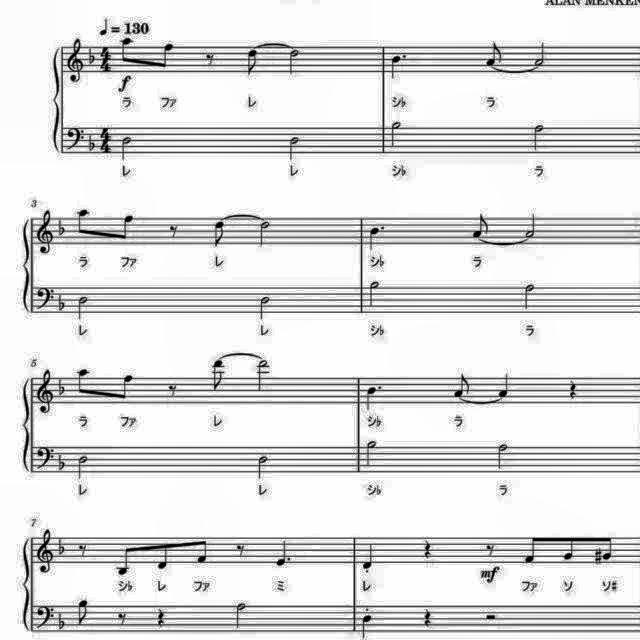Bass-clef: (32, 283, 54, 313), (32, 604, 54, 634), (65, 125, 87, 154), (32, 442, 52, 471)
Bemol: (55, 374, 69, 398), (56, 610, 70, 634), (55, 288, 69, 312), (88, 130, 100, 154), (56, 450, 70, 470), (56, 535, 70, 555), (56, 216, 68, 238), (87, 46, 97, 66)
Eighth-note: (114, 211, 140, 245), (112, 540, 136, 576), (157, 38, 179, 74), (112, 371, 136, 404), (207, 358, 229, 394), (74, 364, 95, 400), (524, 534, 544, 570), (450, 372, 474, 401), (74, 206, 94, 240), (190, 533, 210, 567), (152, 539, 172, 573), (210, 218, 230, 252), (242, 46, 262, 80), (482, 40, 506, 68), (471, 212, 494, 240), (560, 531, 580, 563), (598, 532, 618, 564), (72, 598, 91, 630), (119, 36, 137, 68)
Eighth-rest: (476, 537, 498, 561), (164, 219, 183, 241), (114, 608, 130, 632), (164, 381, 182, 402), (233, 538, 250, 560), (202, 50, 220, 70), (74, 539, 90, 561)
Half-note: (491, 438, 513, 474), (252, 358, 272, 396), (384, 118, 404, 154), (520, 281, 540, 315), (360, 438, 380, 472), (528, 120, 548, 154), (232, 600, 252, 634), (254, 292, 274, 324), (363, 278, 383, 310), (254, 451, 274, 482), (284, 133, 304, 163), (254, 221, 274, 251), (524, 209, 544, 239), (533, 40, 553, 70), (284, 46, 302, 78), (73, 293, 91, 323), (73, 452, 91, 481), (118, 134, 134, 162)
Half-rest: (481, 611, 501, 625)
Quarter-dot: (272, 535, 296, 569), (386, 51, 410, 83), (364, 221, 388, 253), (362, 382, 386, 412)
Quarter-note: (358, 542, 378, 574), (494, 370, 514, 398), (358, 612, 374, 640)
Quarter-rest: (419, 603, 436, 631), (419, 536, 436, 564), (564, 374, 580, 402), (154, 605, 170, 631)
Treble-clef: (31, 369, 57, 419), (34, 525, 58, 575), (64, 37, 88, 87), (34, 207, 58, 257)
